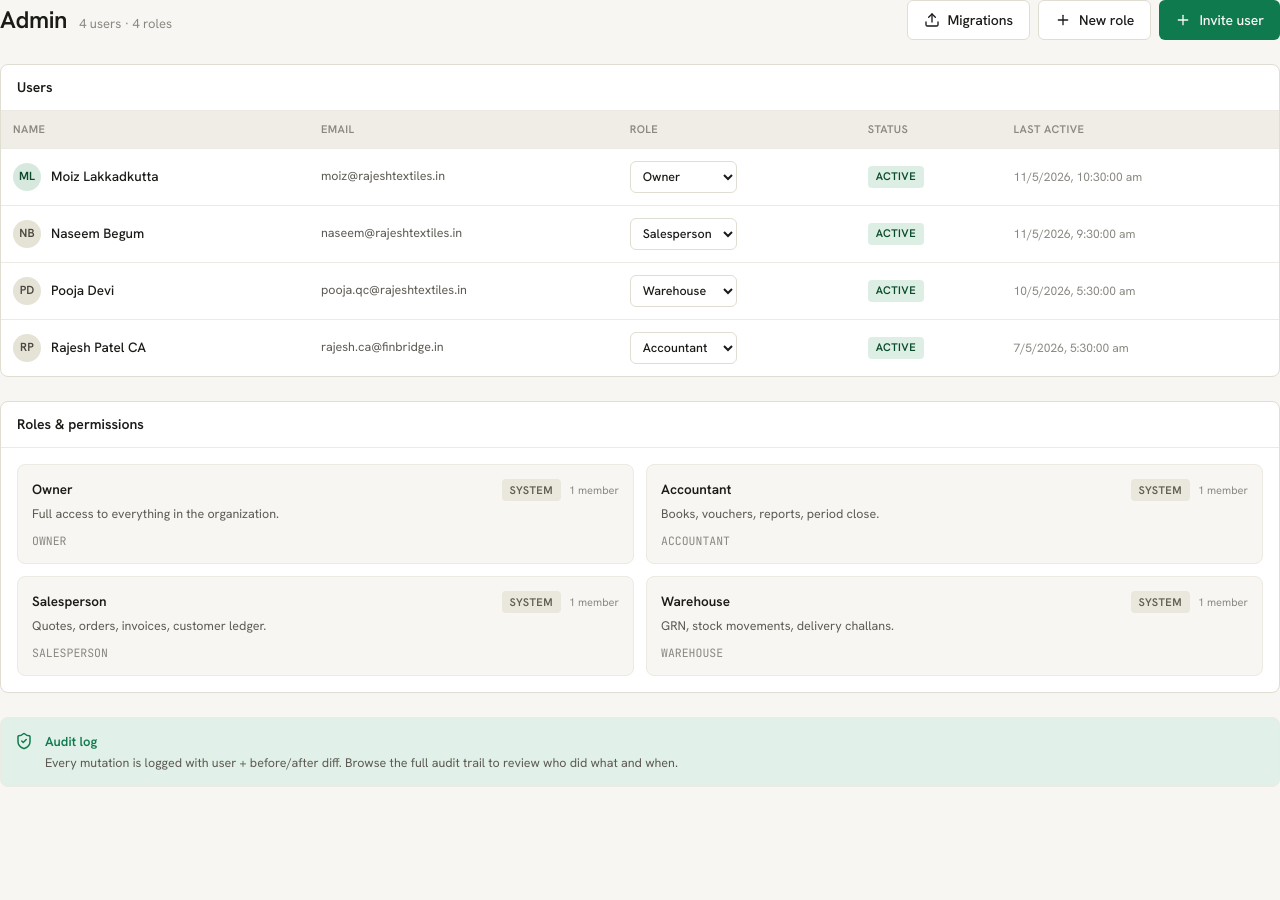
Test: AdminHub (CUT-304) › "+ Invite user" opens the InviteUserDialog (replaces TASK-021 coming-soon)
The width and height of the screenshot is (1280, 900).
Expected: the text "Moiz Lakkadkutta" is shown, top-left (51, 166), bottom-right (158, 187)
Click the button "Invite user" at (1220, 20), box top-left (1159, 0), bottom-right (1279, 40)
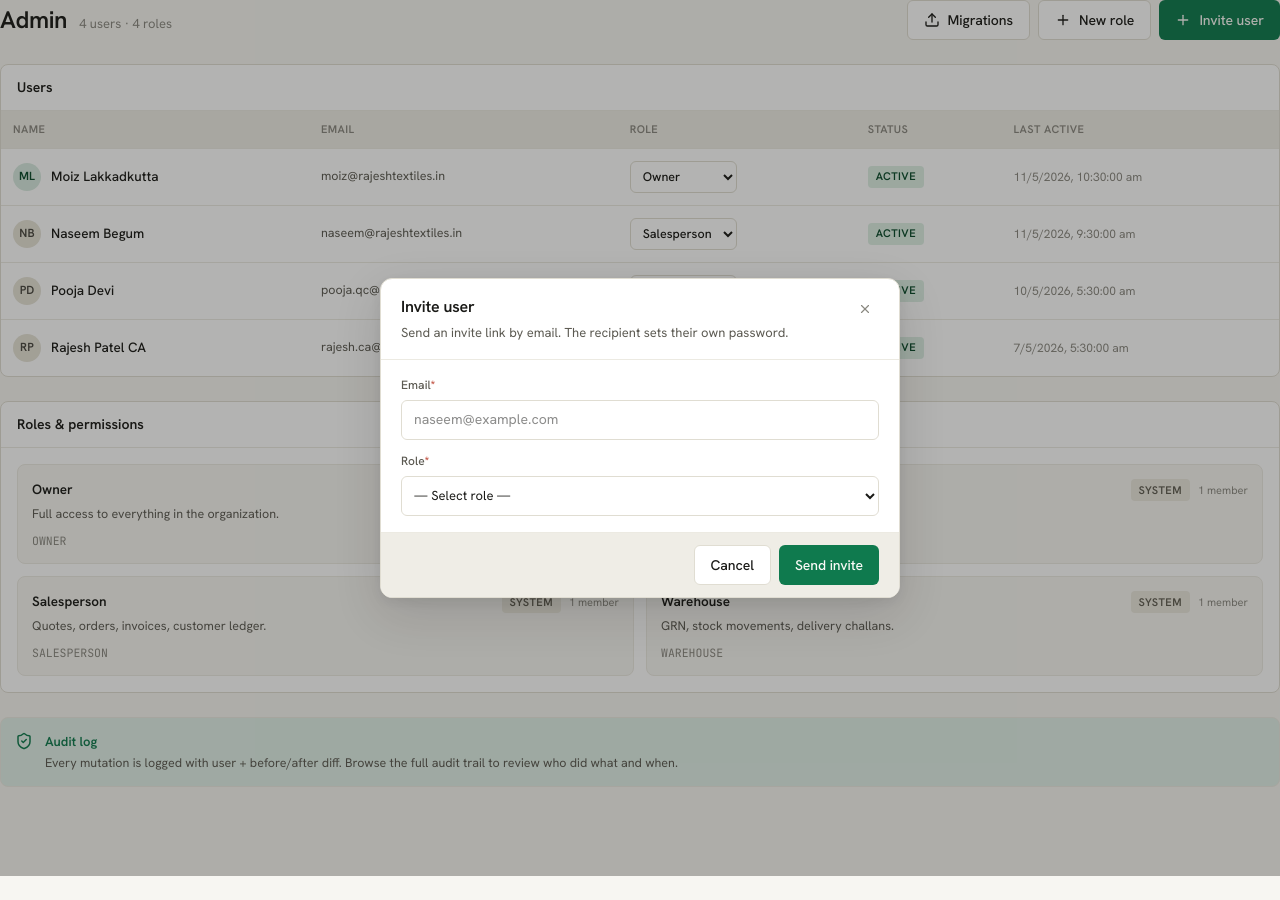
Now the dialog "Invite user" is shown
Now the field labelled "Email*" is shown, box top-left (402, 409), bottom-right (878, 430)
Now the dropdown labelled "Role*" is shown, box top-left (401, 476), bottom-right (879, 516)
